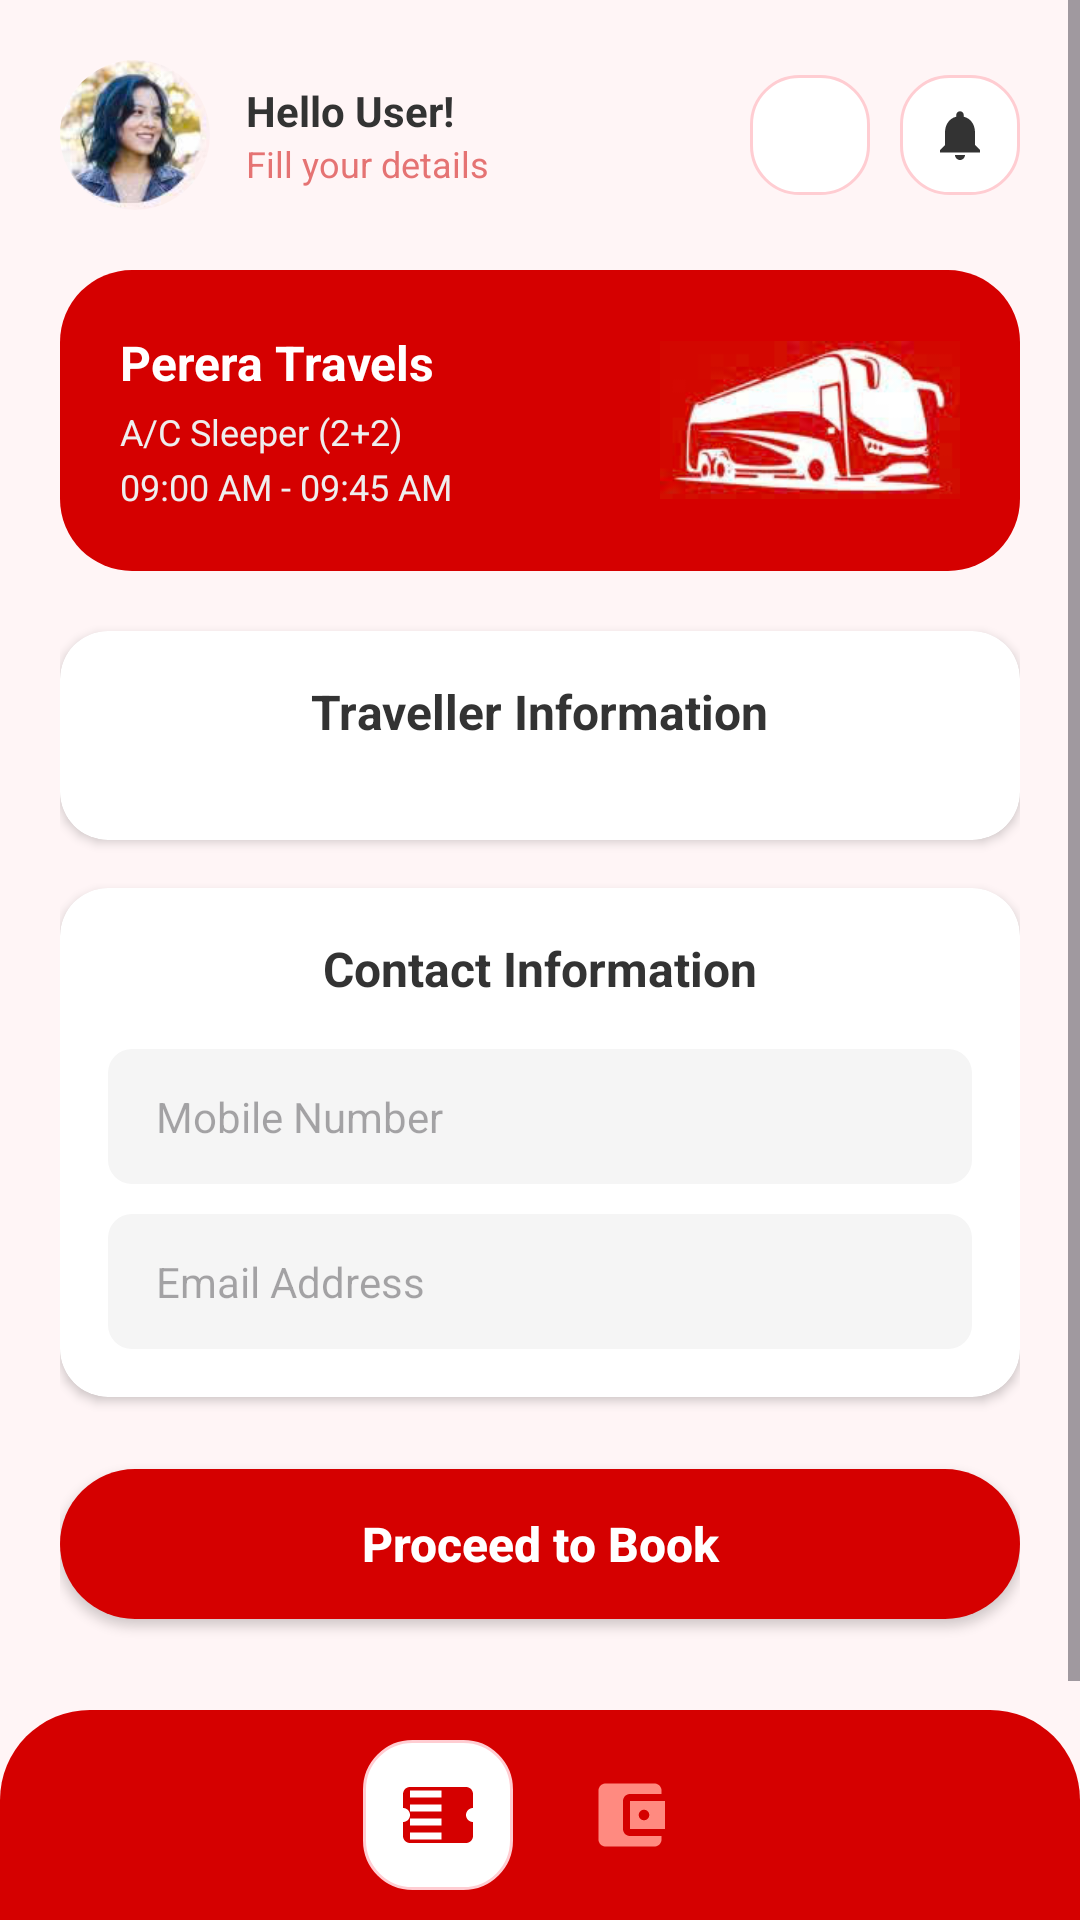

Locate icon controls on the screen. Image size 1080px×1920px, boxes as (x1, y1, x2, y2).
bus booking: (670, 341, 952, 494)
notification: (940, 111, 980, 160)
ticket: (403, 1787, 473, 1843)
wallet: (598, 1783, 665, 1847)
